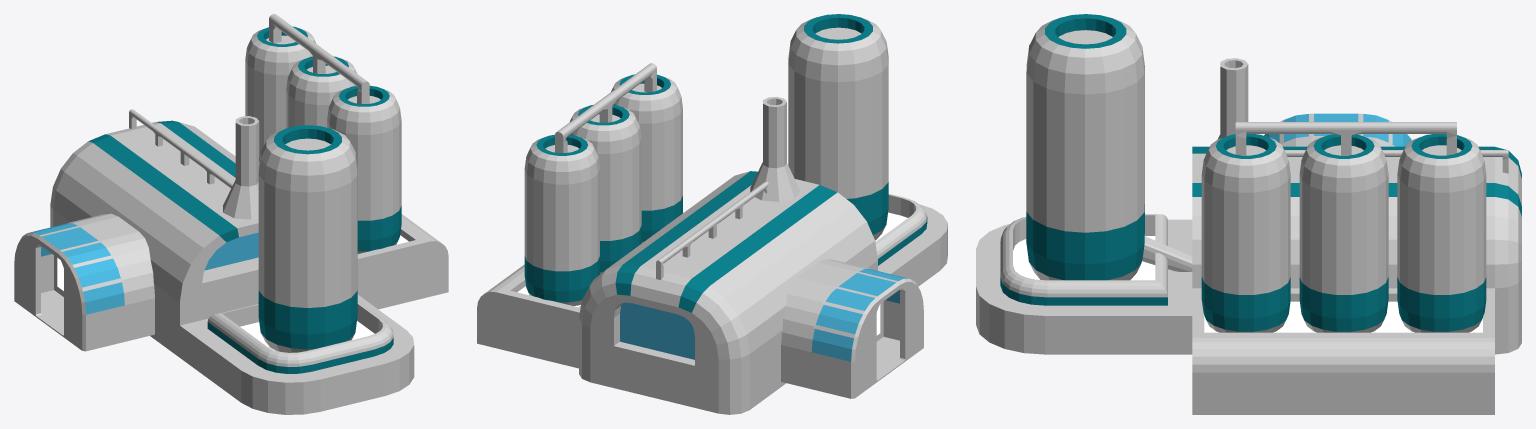
Rendered from NASA O2 Gen.fbx.
3 views of the same model, side by side, from view 1: azimuth 30°, elevation 25°; view 2: azimuth 150°, elevation 25°; view 3: azimuth 270°, elevation 25° (orthographic). The views are drawn at different scales.
Visible parts, largest first — view 1: Cylinder.004; view 2: Cylinder.004; view 3: Cylinder.004.
Part boxes in pixels (left/top/right/bottom): Cylinder.004: left=14, top=14, right=448, bottom=414; Cylinder.004: left=477, top=14, right=947, bottom=414; Cylinder.004: left=976, top=14, right=1521, bottom=414.
Bounding box in the file's own units: 904 × 585 × 1050.
